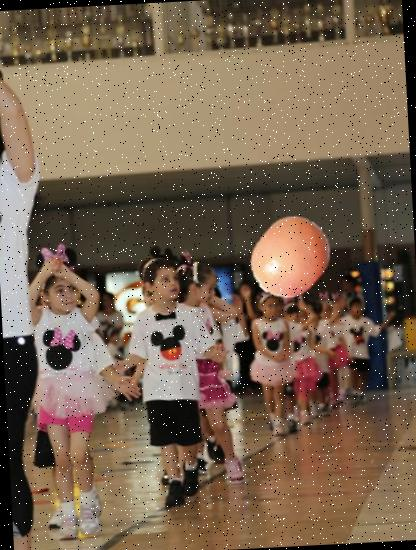Grapefruit: (246, 212, 335, 302)
